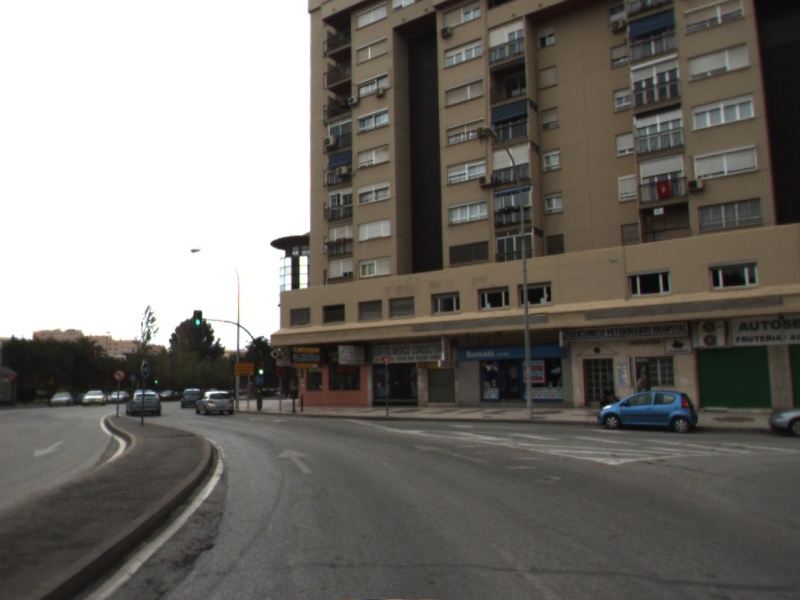STRAIGHT: (409, 441, 491, 466), (274, 446, 315, 476)
